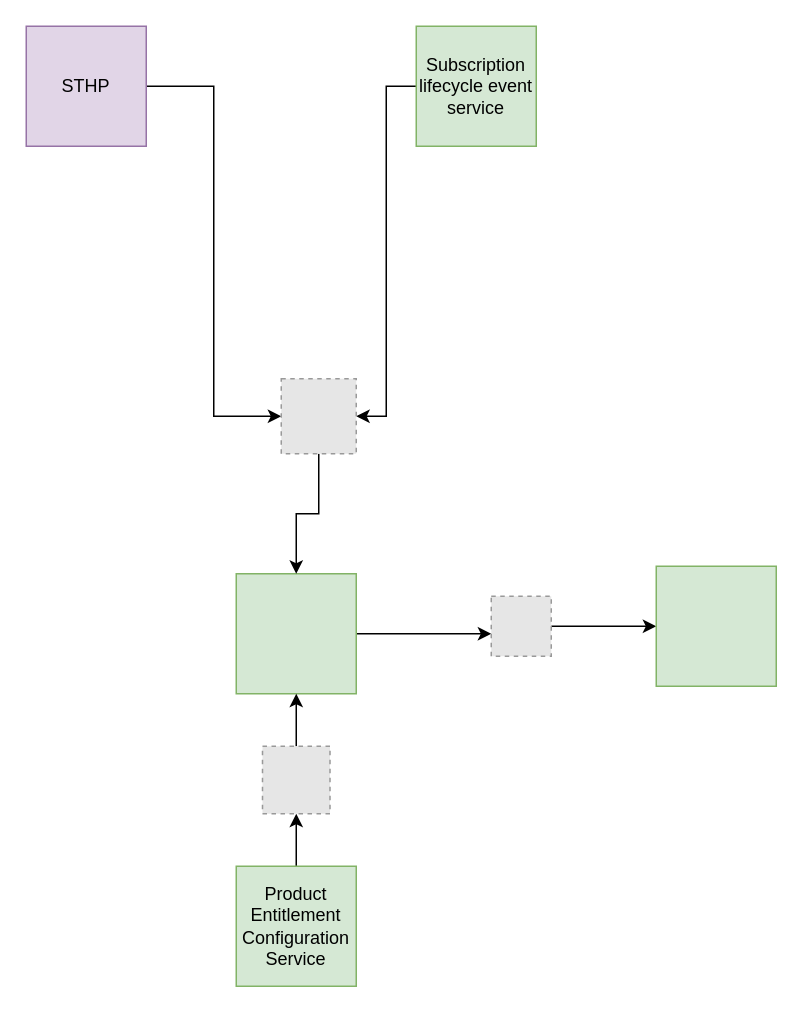
Some shapes in this 803 by 1013 pixel diagram are drawn without their labels. Grey dashed boxes stand in for pictures. Here are the shapes that lost their labels. From the top down, the box of each, then its label:
(235, 572, 356, 694): Subscription entitlement service
(655, 565, 776, 686): Entitlement Service
